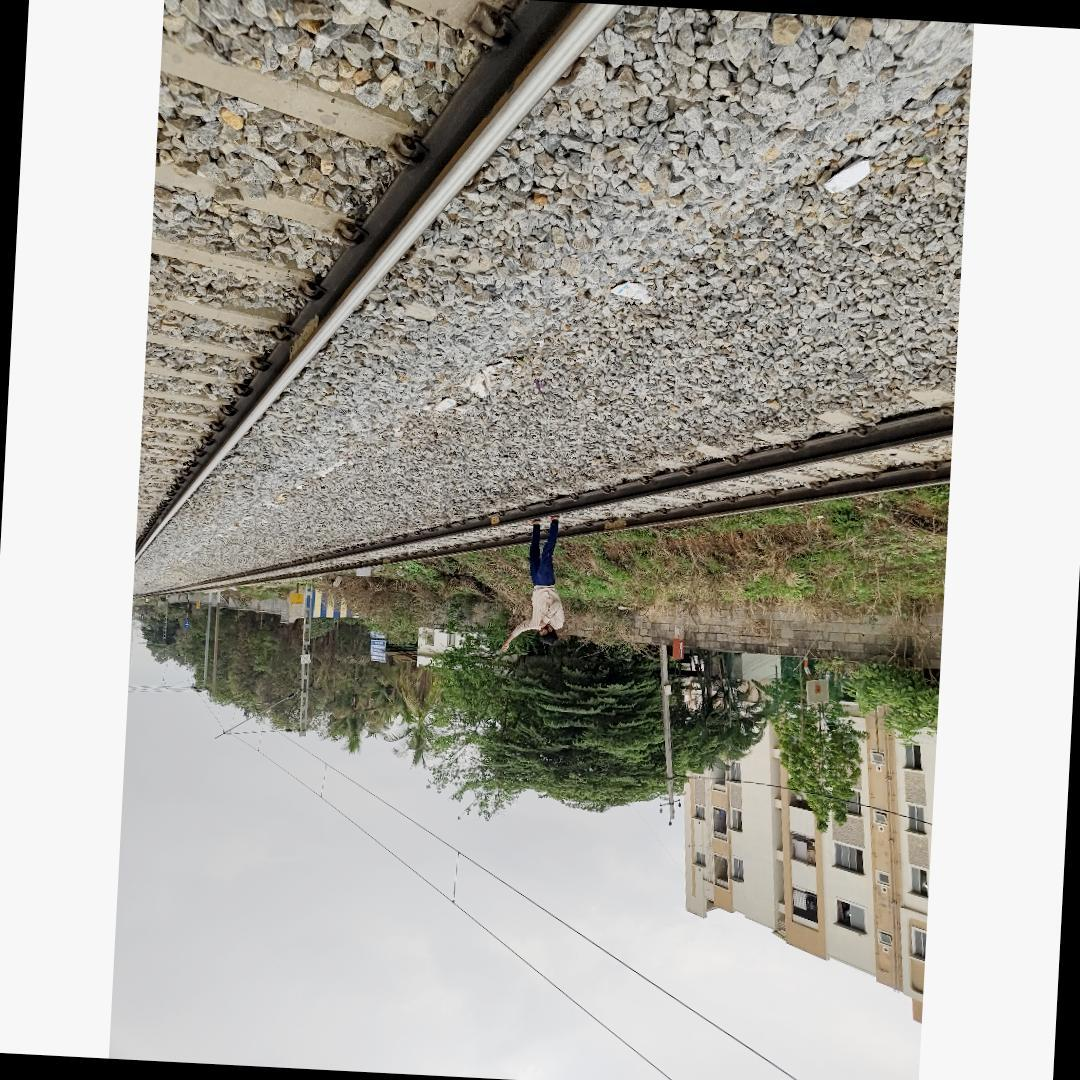standing: (497, 512, 570, 656)
track: (132, 396, 953, 603)
